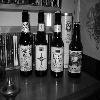beer: (21, 9, 40, 81)
